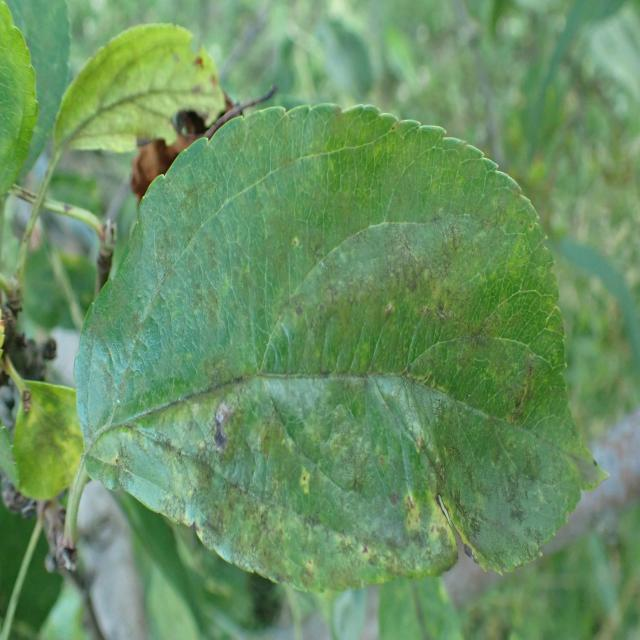scab: (73, 109, 597, 582)
